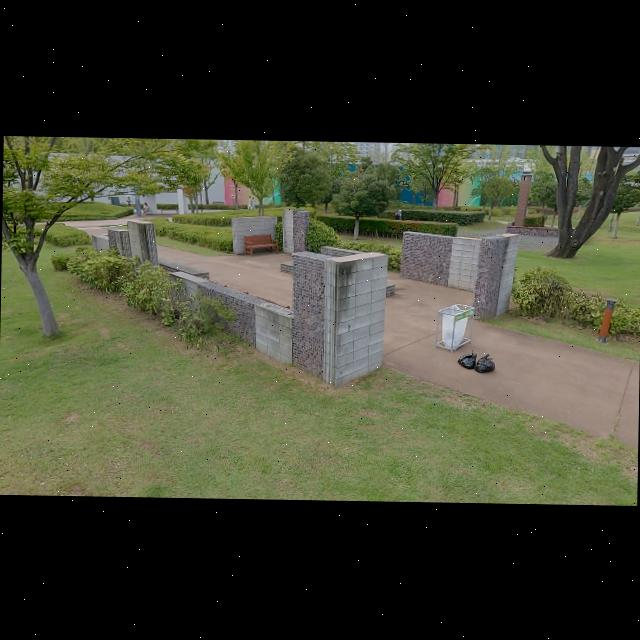trash: (475, 352, 496, 373), (456, 348, 477, 368)
